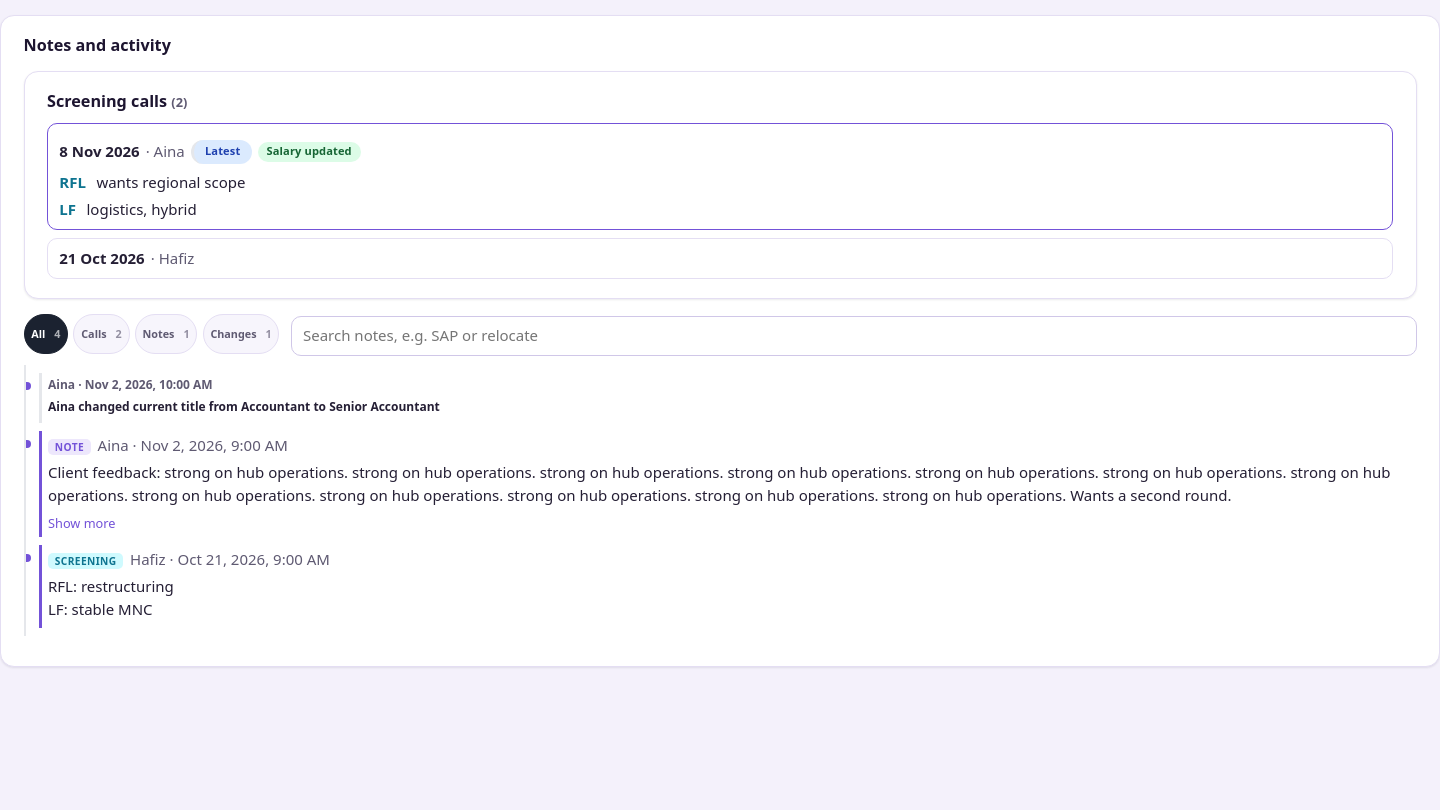
Test: timeline › pins the latest call, filters by kind, searches, and folds long notes
Check: the list item with aria-label "Latest call" shows "8 Nov 2026 · Aina", box [47,123,1393,230]
Check: the list item with aria-label "Latest call" shows "Salary updated", box [267,143,352,158]
Click the button "Show more" at (82, 524), box [48,514,116,534]
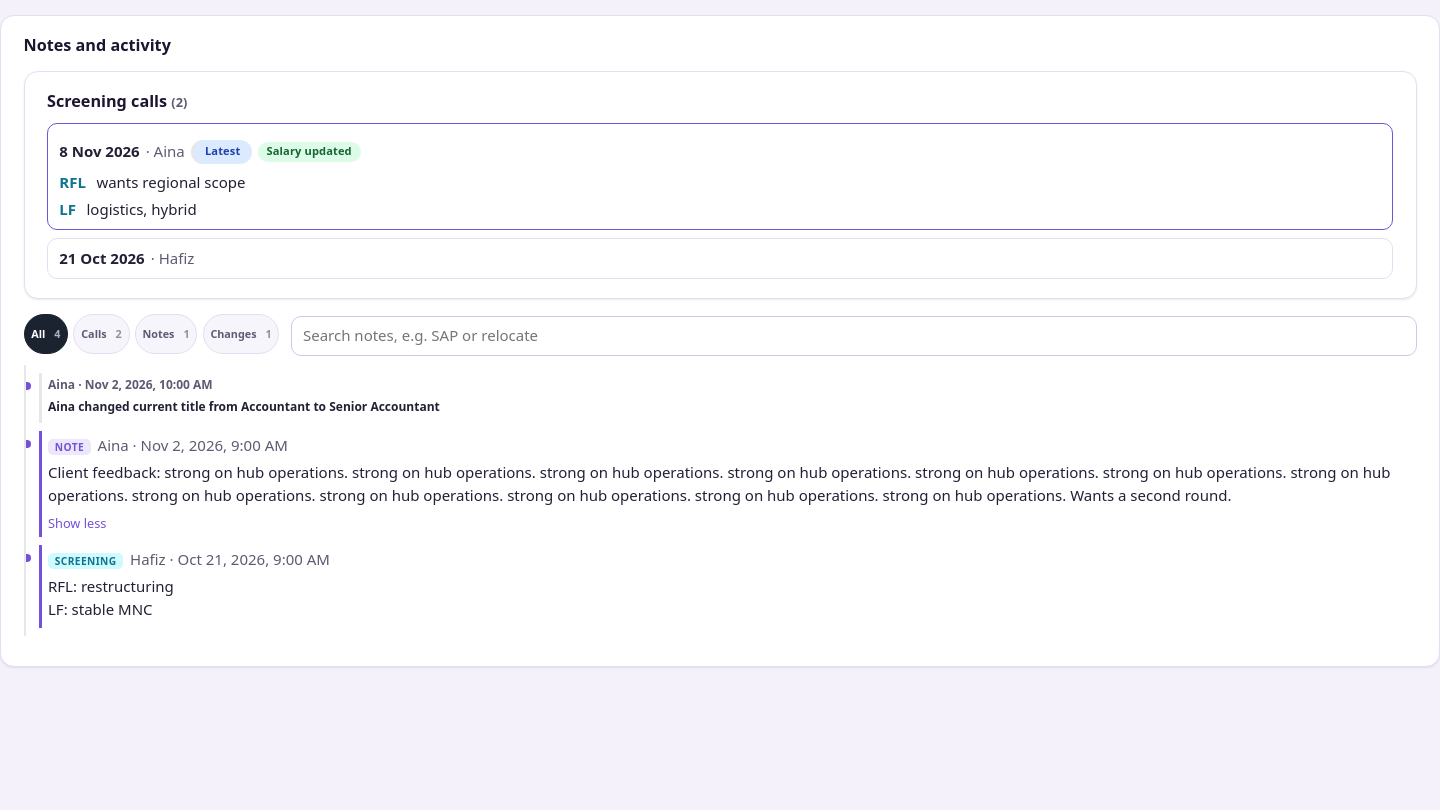
Click the button "Calls 2" at (102, 334), box [74,314,130,354]
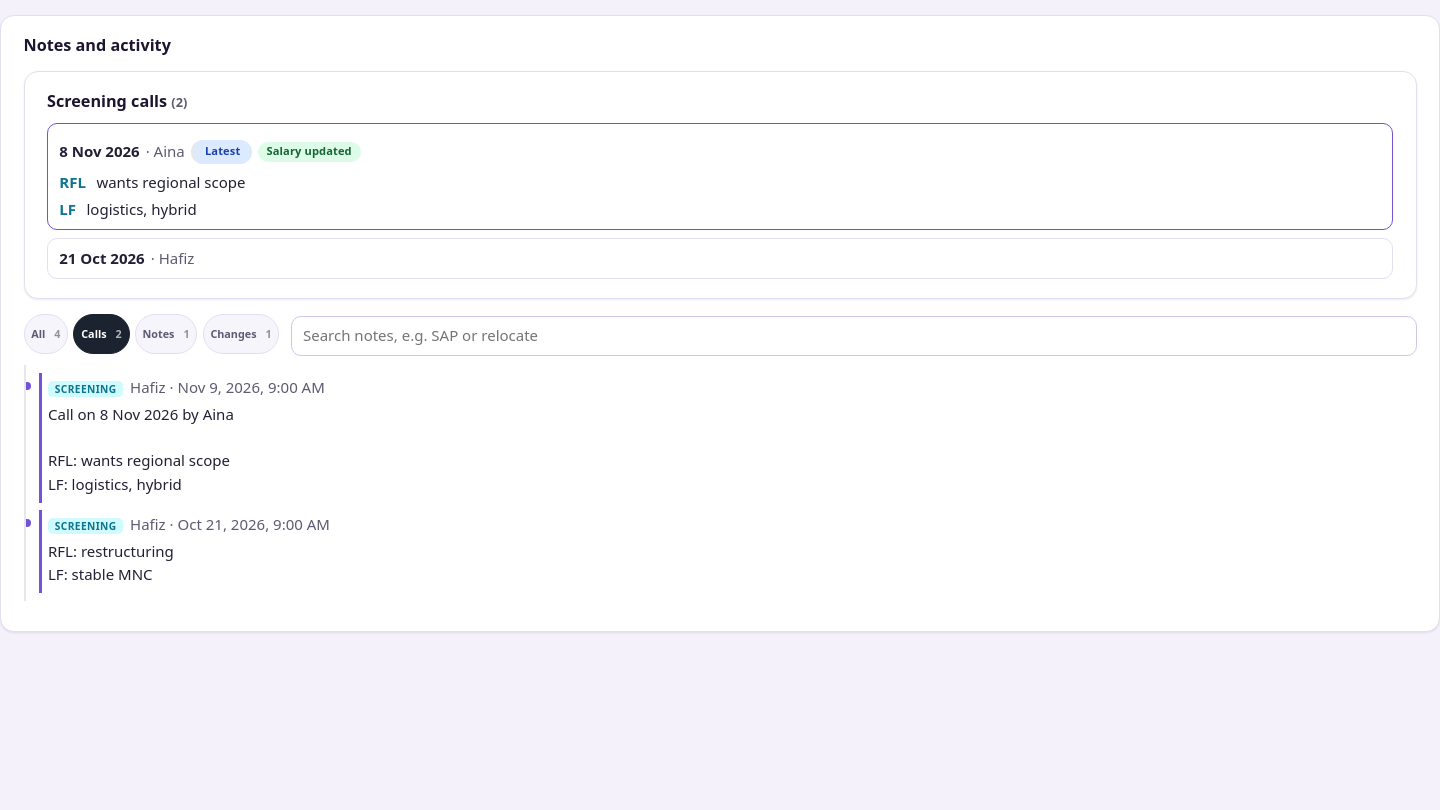
Check: the text "RFL: restructuring LF: stable MNC" is shown, box [48,541,174,584]
Check: the text "Client feedback" is gone
Click the button "All 4" at (46, 334), box [24,314,68,354]
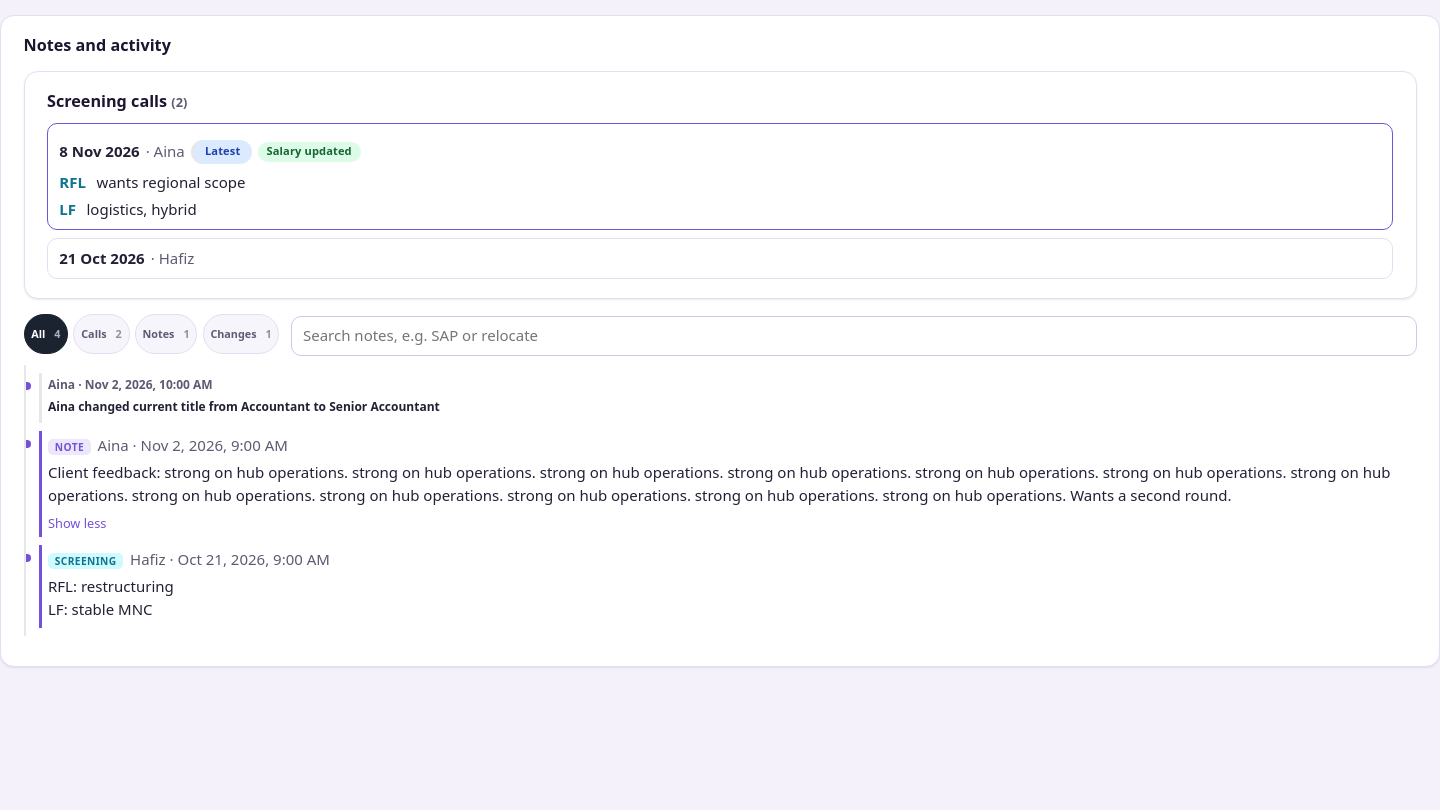
Type "second round" into the search field labelled "Search notes" at (854, 336), box [291,316,1416,356]
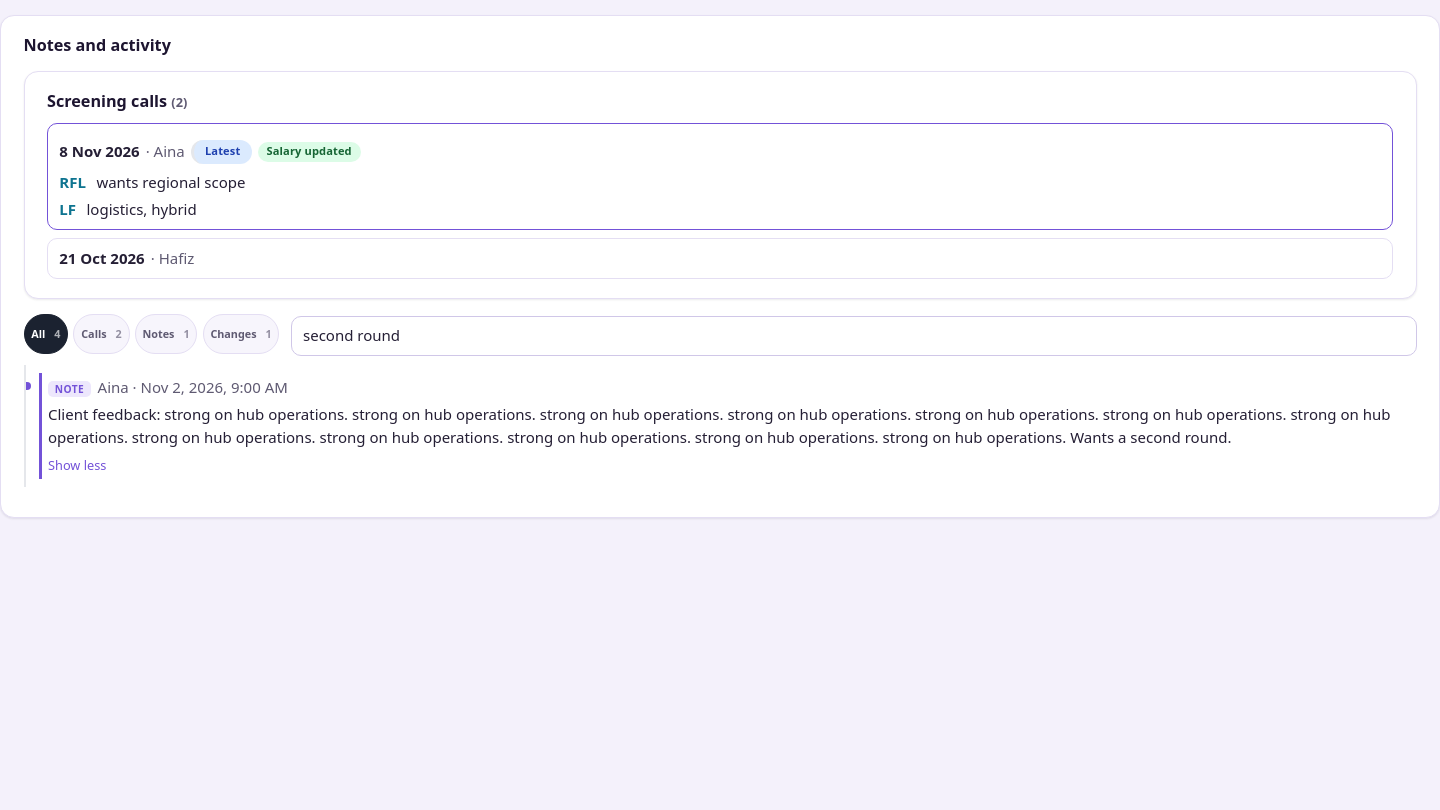
Check: the text "Client feedback" is shown, box [48,404,1394,447]
Check: the text "restructuring" is gone
Check: the text "changed current title" is gone
